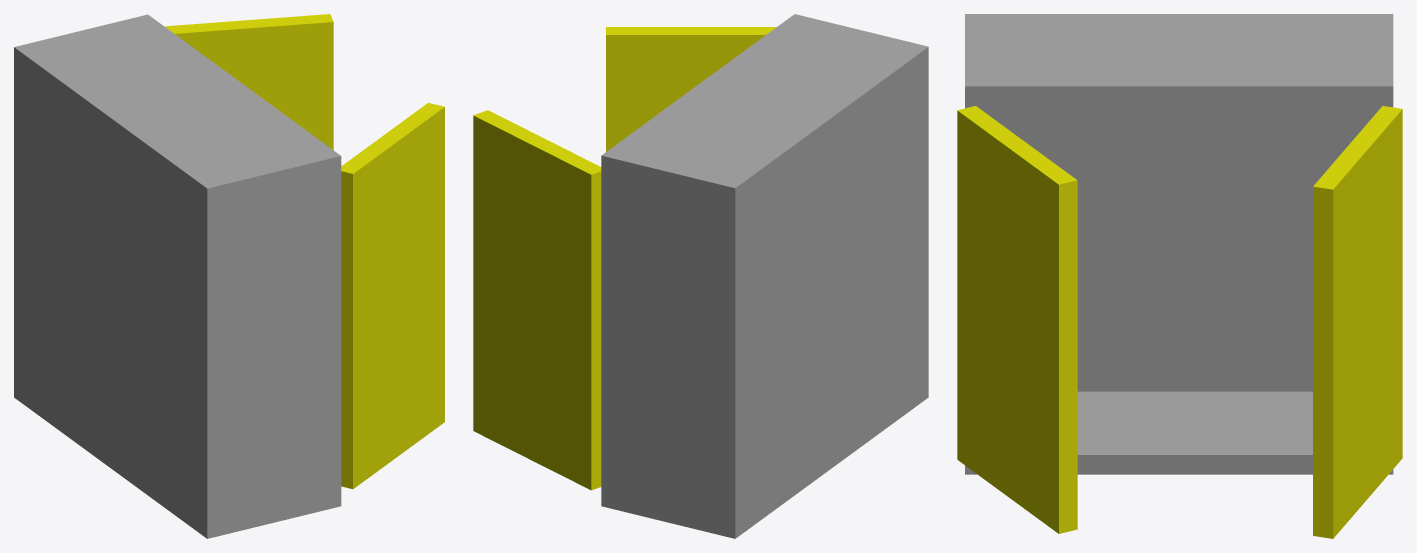
Rendered from SM_Cabinet_Wall_Empty.fbx.
The picture shows the model from 3 angles, left to right: view 1: azimuth 30°, elevation 25°; view 2: azimuth 150°, elevation 25°; view 3: azimuth 270°, elevation 25°; orthographic projection. The views are drawn at different scales.
Parts seen in each view (by area): view 1: SM_Cabinet_Wall_Empty; view 2: SM_Cabinet_Wall_Empty; view 3: SM_Cabinet_Wall_Empty.
Part boxes in pixels (box(x1,y1,x2,y2)): SM_Cabinet_Wall_Empty: box(14, 14, 444, 538); SM_Cabinet_Wall_Empty: box(473, 14, 928, 538); SM_Cabinet_Wall_Empty: box(957, 14, 1402, 538).
Size of the model in its own units: 86.35 by 100 by 104.
